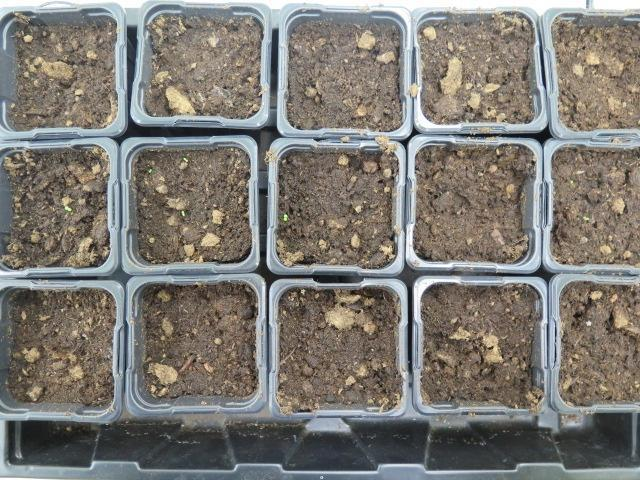weed: (278, 209, 290, 225), (60, 203, 74, 214)
